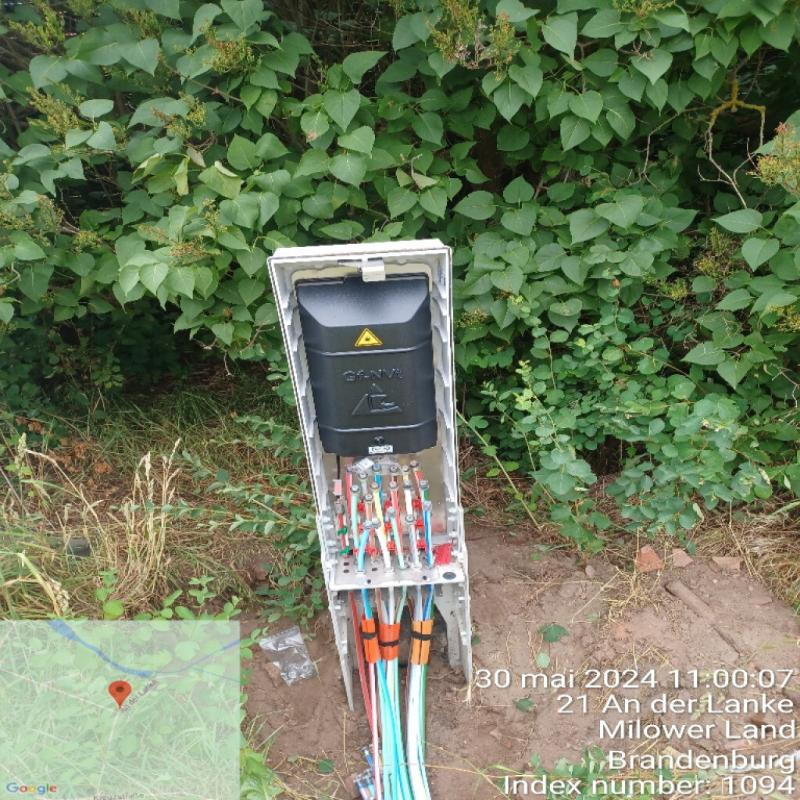NT-Gehause: (268, 238, 471, 625)
